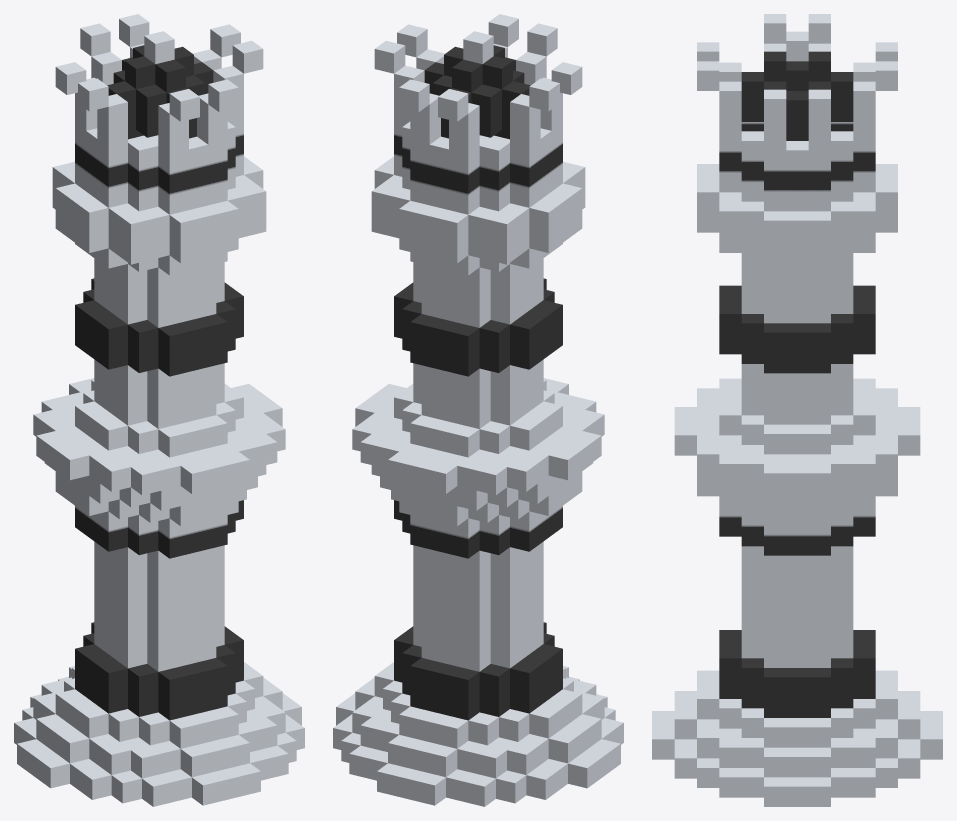
The model's file is whiteQ.dae.
3 views of the same model, side by side, from view 1: azimuth 30°, elevation 25°; view 2: azimuth 150°, elevation 25°; view 3: azimuth 270°, elevation 25° (orthographic).
Parts seen in each view (by area): view 1: whiteQ; view 2: whiteQ; view 3: whiteQ.
Part boxes in pixels (x1,y1,x2,y2): whiteQ: [14, 14, 304, 806]; whiteQ: [333, 14, 623, 806]; whiteQ: [652, 14, 942, 806].
Size of the model in its own units: 13 by 35 by 13.
1 material, 1 textured.
